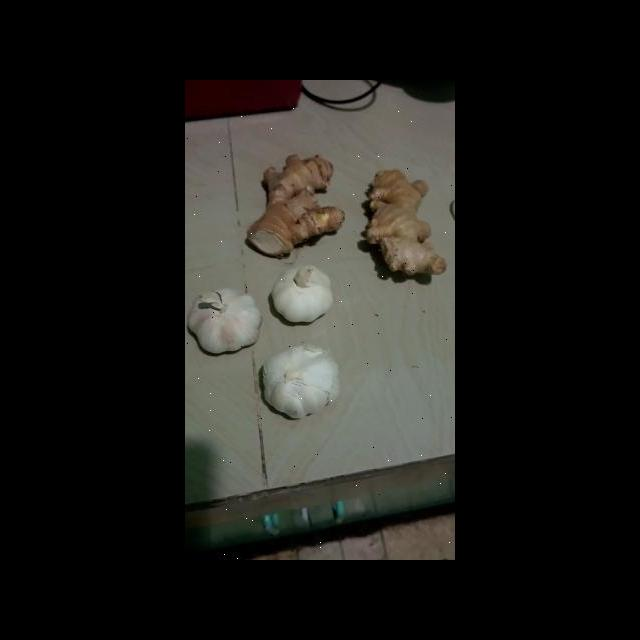garlic: (258, 338, 342, 418), (188, 288, 263, 357), (268, 261, 333, 324)
ginger: (359, 163, 449, 283), (249, 153, 340, 258)
